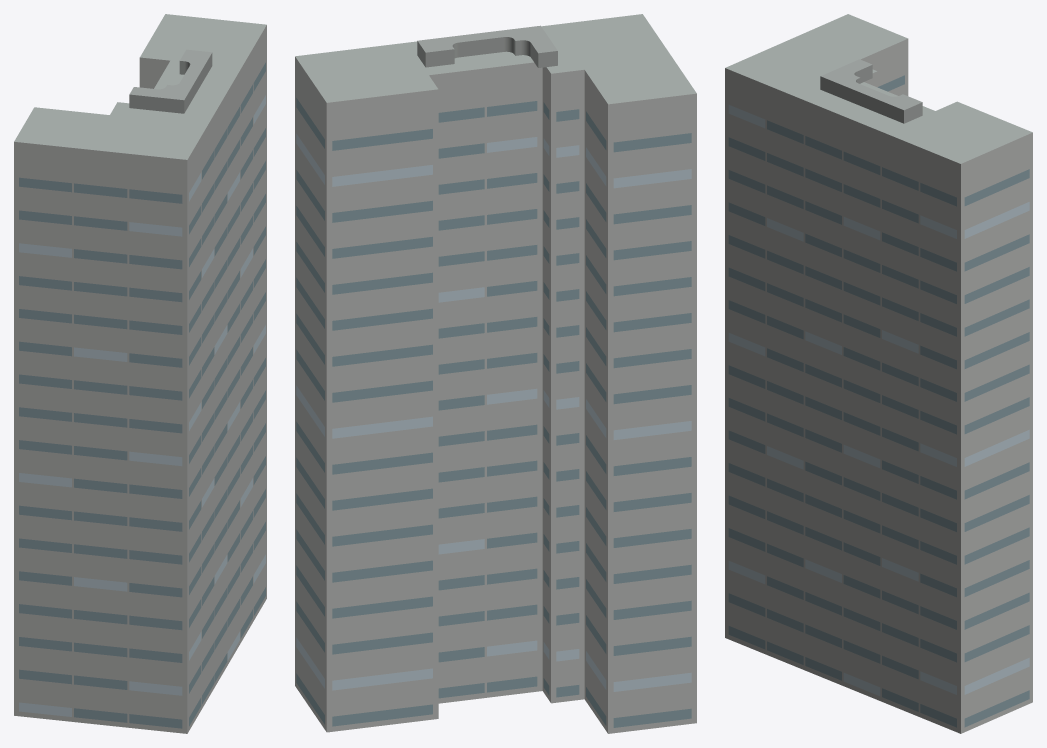
Rendered from fallback-raemian-blesstige-212.glb.
3 views of the same model, side by side, from view 1: azimuth 30°, elevation 25°; view 2: azimuth 150°, elevation 25°; view 3: azimuth 270°, elevation 25° (orthographic). The views are drawn at different scales.
Parts seen in each view (by area): view 1: fallback-raemian-blesstige-212; view 2: fallback-raemian-blesstige-212; view 3: fallback-raemian-blesstige-212.
Part boxes in pixels (box(x1,y1,x2,y2)): fallback-raemian-blesstige-212: box(14, 14, 266, 733); fallback-raemian-blesstige-212: box(295, 14, 696, 733); fallback-raemian-blesstige-212: box(725, 14, 1032, 733).
Size of the model in its own units: 57.37 by 104 by 49.76.
